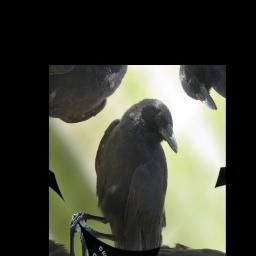Crow: (54, 80, 218, 256)
